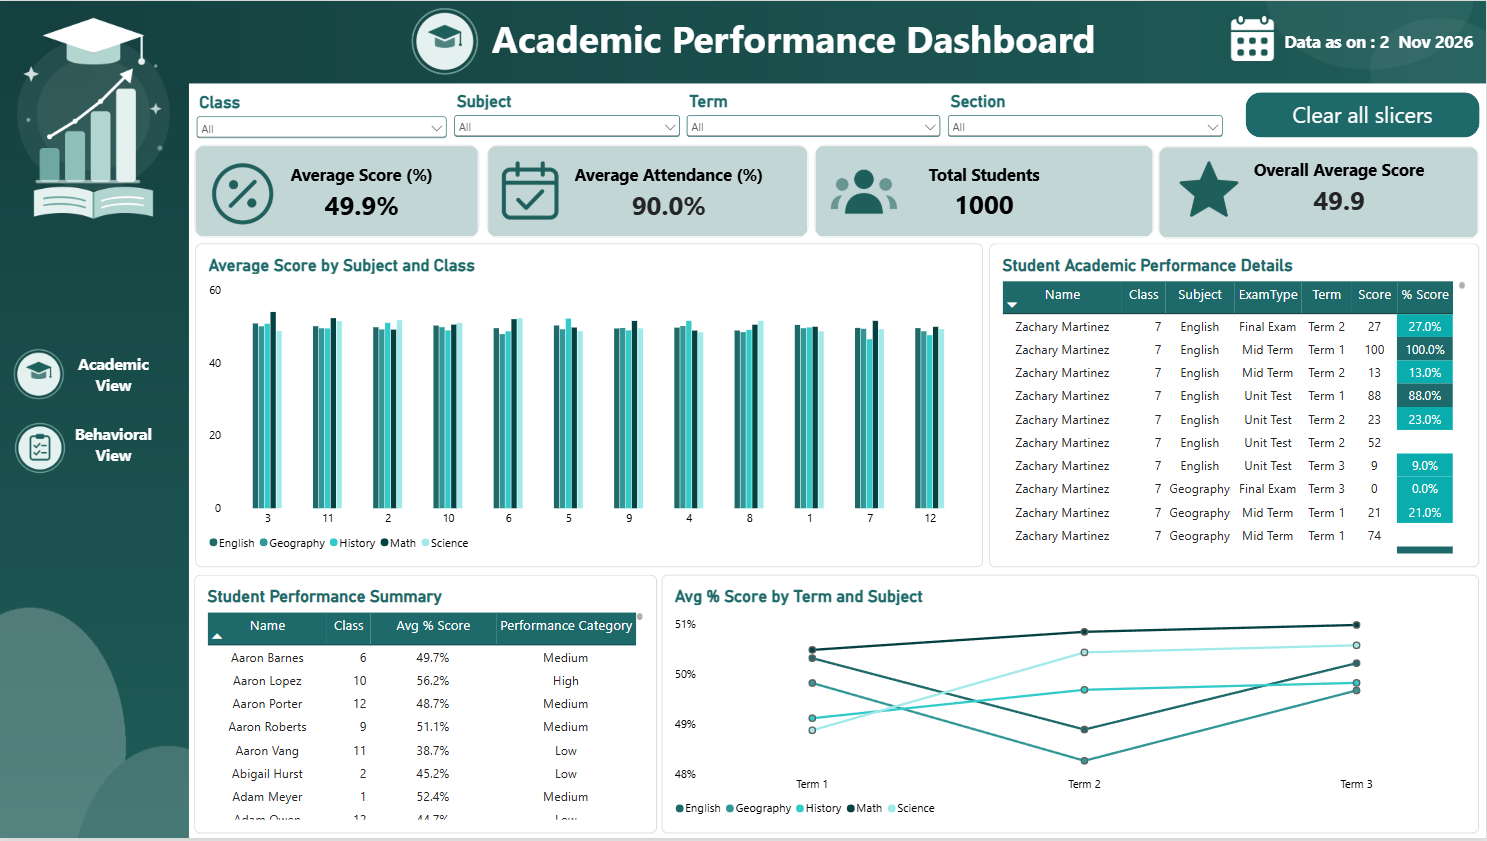

The dashboard page shown, as its layout file describes it:
{"tool":"powerbi","page":{"name":"Academic Overview","canvas":[1920,1080],"ordinal":0},"visuals":[{"type":"image","box":[0,10,246.7,1070],"z":0},{"type":"bookmarkNavigator","box":[68,440,162,174],"z":0,"group":"g2"},{"type":"image","box":[1.7,0,1918.3,106.7],"z":1000},{"type":"image","box":[20,446,66.7,70],"z":1000,"group":"g2"},{"type":"slicer","fields":{"Values":["Students.Class"]},"box":[251.1,117.8,332.2,65.6],"z":2000},{"type":"image","box":[22,542,66.7,70],"z":2000,"group":"g2"},{"type":"slicer","fields":{"Values":["Students.Section"]},"box":[1221.1,116.7,364.4,67.8],"z":3000},{"type":"slicer","fields":{"Values":["Scores.Subject"]},"box":[583.3,116.7,301.1,65.6],"z":4000},{"type":"slicer","fields":{"Values":["Scores.Term"]},"box":[884.4,116.7,336.7,66.7],"z":5000},{"type":"clusteredColumnChart","title":"Average Score by Subject and Class","fields":{"Category":["Students.Class"],"Series":["Scores.Subject"],"Y":["Attendance.Average Score per Subject"]},"box":[254.2,313.3,1015.8,417.5],"z":6000},{"type":"lineChart","fields":{"Category":["Scores.Term"],"Series":["Scores.Subject"],"Y":["Attendance.Avg % Score"]},"box":[856.7,740,1054.2,333.3],"z":7000},{"type":"tableEx","title":"Student Academic Performance Details","fields":{"Values":["Students.Name","Students.Class","Scores.Subject","Scores.ExamType","Scores.Term","Scores.Score","Scores.% Score"]},"box":[1279.2,313.3,631.7,417.5],"z":8000},{"type":"tableEx","title":"Student Performance Summary","fields":{"Values":["Students.Name","Students.Class","Attendance.Avg % Score","Attendance.Performance Category"]},"box":[253.3,740,596.7,333.3],"z":9000},{"type":"textbox","box":[1660,36.7,260,41.7],"z":10000},{"type":"image","box":[1585,13.3,66.7,71.7],"z":11000},{"type":"group","id":"g1","title":"Group 1","box":[468.3,8,963.3,88],"z":12000},{"type":"shape","box":[254,186,368,120],"z":13000},{"type":"shape","box":[630,185.6,415.6,120],"z":14000},{"type":"shape","box":[1053.3,186,438.6,120],"z":15000},{"type":"shape","box":[1496.7,186.7,414.4,120],"z":16000},{"type":"actionButton","box":[1610,117.9,302.1,58.6],"z":17000},{"type":"cardVisual","fields":{"Data":["_Measures.Total Students"]},"box":[1053.3,188.9,438.9,116.7],"z":18000},{"type":"textbox","box":[638.3,15,793.3,71.7],"z":19000,"group":"g1"},{"type":"cardVisual","fields":{"Data":["Attendance.Attendance %"]},"box":[686,188,360,118],"z":19000},{"type":"cardVisual","fields":{"Data":["Attendance.Avg Score"]},"box":[1562,188,338,104],"z":20000},{"type":"image","box":[468.3,8,218,88],"z":20001,"group":"g1"},{"type":"cardVisual","fields":{"Data":["Attendance.Avg % Score"]},"box":[316,188,306,118],"z":21000},{"type":"image","box":[268,202,96,94],"z":22000},{"type":"image","box":[1514,198,96,94],"z":23000},{"type":"image","box":[1070,198,96,94],"z":24000},{"type":"image","box":[638,198,96,94],"z":25000},{"type":"image","box":[0,0,246,292],"z":26000},{"type":"group","id":"g2","title":"Group 2","box":[20,440,210,174],"z":27000}]}

Visuals, with their boxes in screenshot pixels (x1, y1, x2, y2), scaled from the page's 1920x1080 canvas onto the 1487x841 screenshot:
image: bbox=[0, 8, 191, 840]
bookmarkNavigator: bbox=[53, 343, 178, 478]
image: bbox=[1, 0, 1486, 83]
image: bbox=[15, 347, 67, 402]
slicer - Students.Class: bbox=[194, 92, 452, 143]
image: bbox=[17, 422, 69, 477]
slicer - Students.Section: bbox=[946, 91, 1228, 144]
slicer - Scores.Subject: bbox=[452, 91, 685, 142]
slicer - Scores.Term: bbox=[685, 91, 946, 143]
"Average Score by Subject and Class" clusteredColumnChart: bbox=[197, 244, 984, 569]
lineChart - Scores.Term x Scores.Subject: bbox=[663, 576, 1480, 836]
"Student Academic Performance Details" tableEx: bbox=[991, 244, 1480, 569]
"Student Performance Summary" tableEx: bbox=[196, 576, 658, 836]
textbox: bbox=[1286, 29, 1486, 61]
image: bbox=[1228, 10, 1279, 66]
"Group 1" group: bbox=[363, 6, 1109, 75]
shape: bbox=[197, 145, 482, 238]
shape: bbox=[488, 145, 810, 238]
shape: bbox=[816, 145, 1155, 238]
shape: bbox=[1159, 145, 1480, 239]
actionButton: bbox=[1247, 92, 1481, 137]
cardVisual - _Measures.Total Students: bbox=[816, 147, 1156, 238]
textbox: bbox=[494, 12, 1109, 68]
cardVisual - Attendance.Attendance %: bbox=[531, 146, 810, 238]
cardVisual - Attendance.Avg Score: bbox=[1210, 146, 1472, 227]
image: bbox=[363, 6, 532, 75]
cardVisual - Attendance.Avg % Score: bbox=[245, 146, 482, 238]
image: bbox=[208, 157, 282, 230]
image: bbox=[1173, 154, 1247, 227]
image: bbox=[829, 154, 903, 227]
image: bbox=[494, 154, 568, 227]
image: bbox=[0, 0, 191, 227]
"Group 2" group: bbox=[15, 343, 178, 478]
